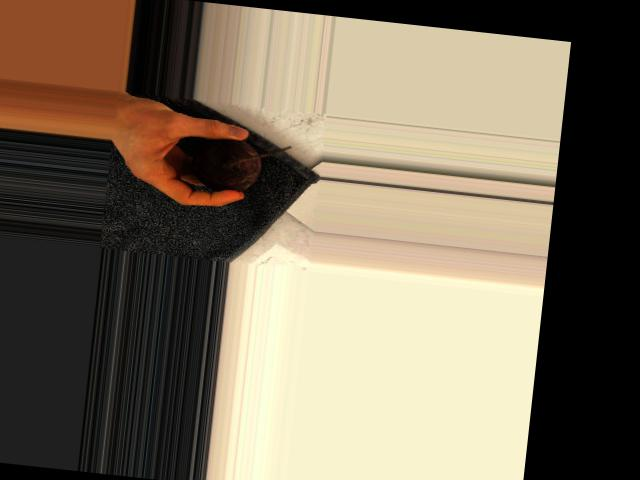beet: (190, 135, 292, 198)
